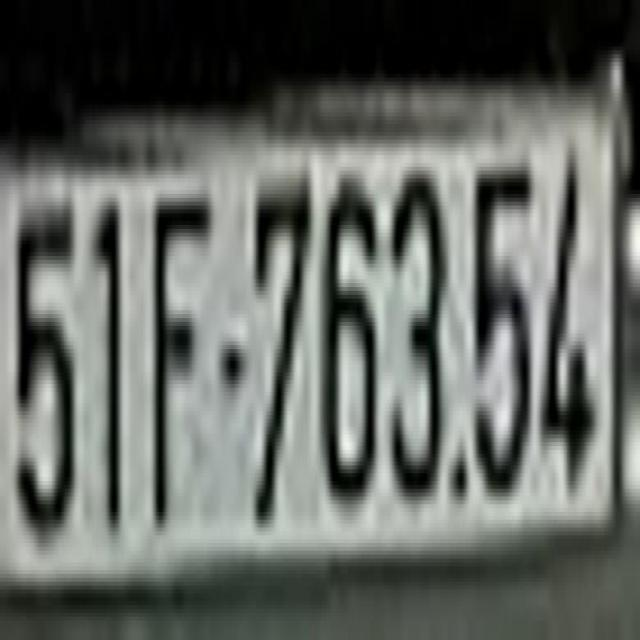1: (91, 194, 128, 547)
3: (387, 166, 445, 532)
4: (538, 143, 601, 504)
5: (14, 198, 79, 540), (471, 155, 534, 504)
6: (320, 163, 378, 512)
7: (253, 170, 314, 528)
F: (149, 175, 212, 540)
